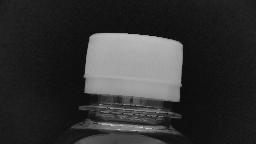Loose Cap: (73, 72, 189, 120)
